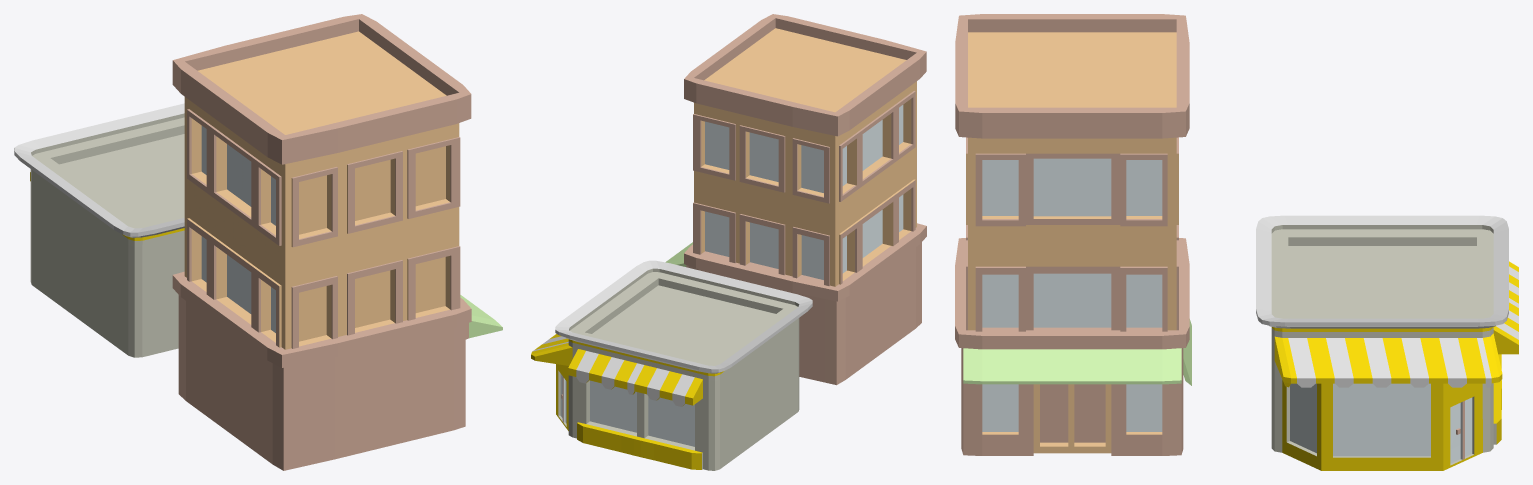
File: zgrade.fbx
The picture shows the model from 3 angles, left to right: view 1: azimuth 30°, elevation 25°; view 2: azimuth 150°, elevation 25°; view 3: azimuth 270°, elevation 25°; orthographic projection. The views are drawn at different scales.
Visible parts, largest first — view 1: Zgrada1, Zgrada2; view 2: Zgrada1, Zgrada2; view 3: Zgrada1, Zgrada2.
Boxes of the visible parts, x1=… form: Zgrada1: x1=172, y1=14, x2=502, y2=470; Zgrada2: x1=14, y1=103, x2=184, y2=357; Zgrada1: x1=665, y1=14, x2=926, y2=385; Zgrada2: x1=531, y1=260, x2=812, y2=470; Zgrada1: x1=955, y1=14, x2=1191, y2=455; Zgrada2: x1=1256, y1=215, x2=1518, y2=470.
Size of the model in its own units: 438 by 581 by 859.
